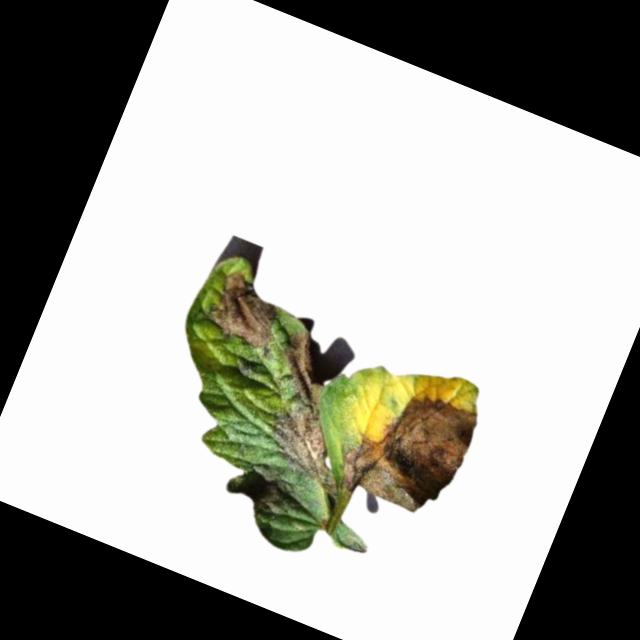Late_blight: (237, 325, 389, 499), (328, 369, 485, 529), (202, 265, 296, 356), (236, 461, 302, 520)
